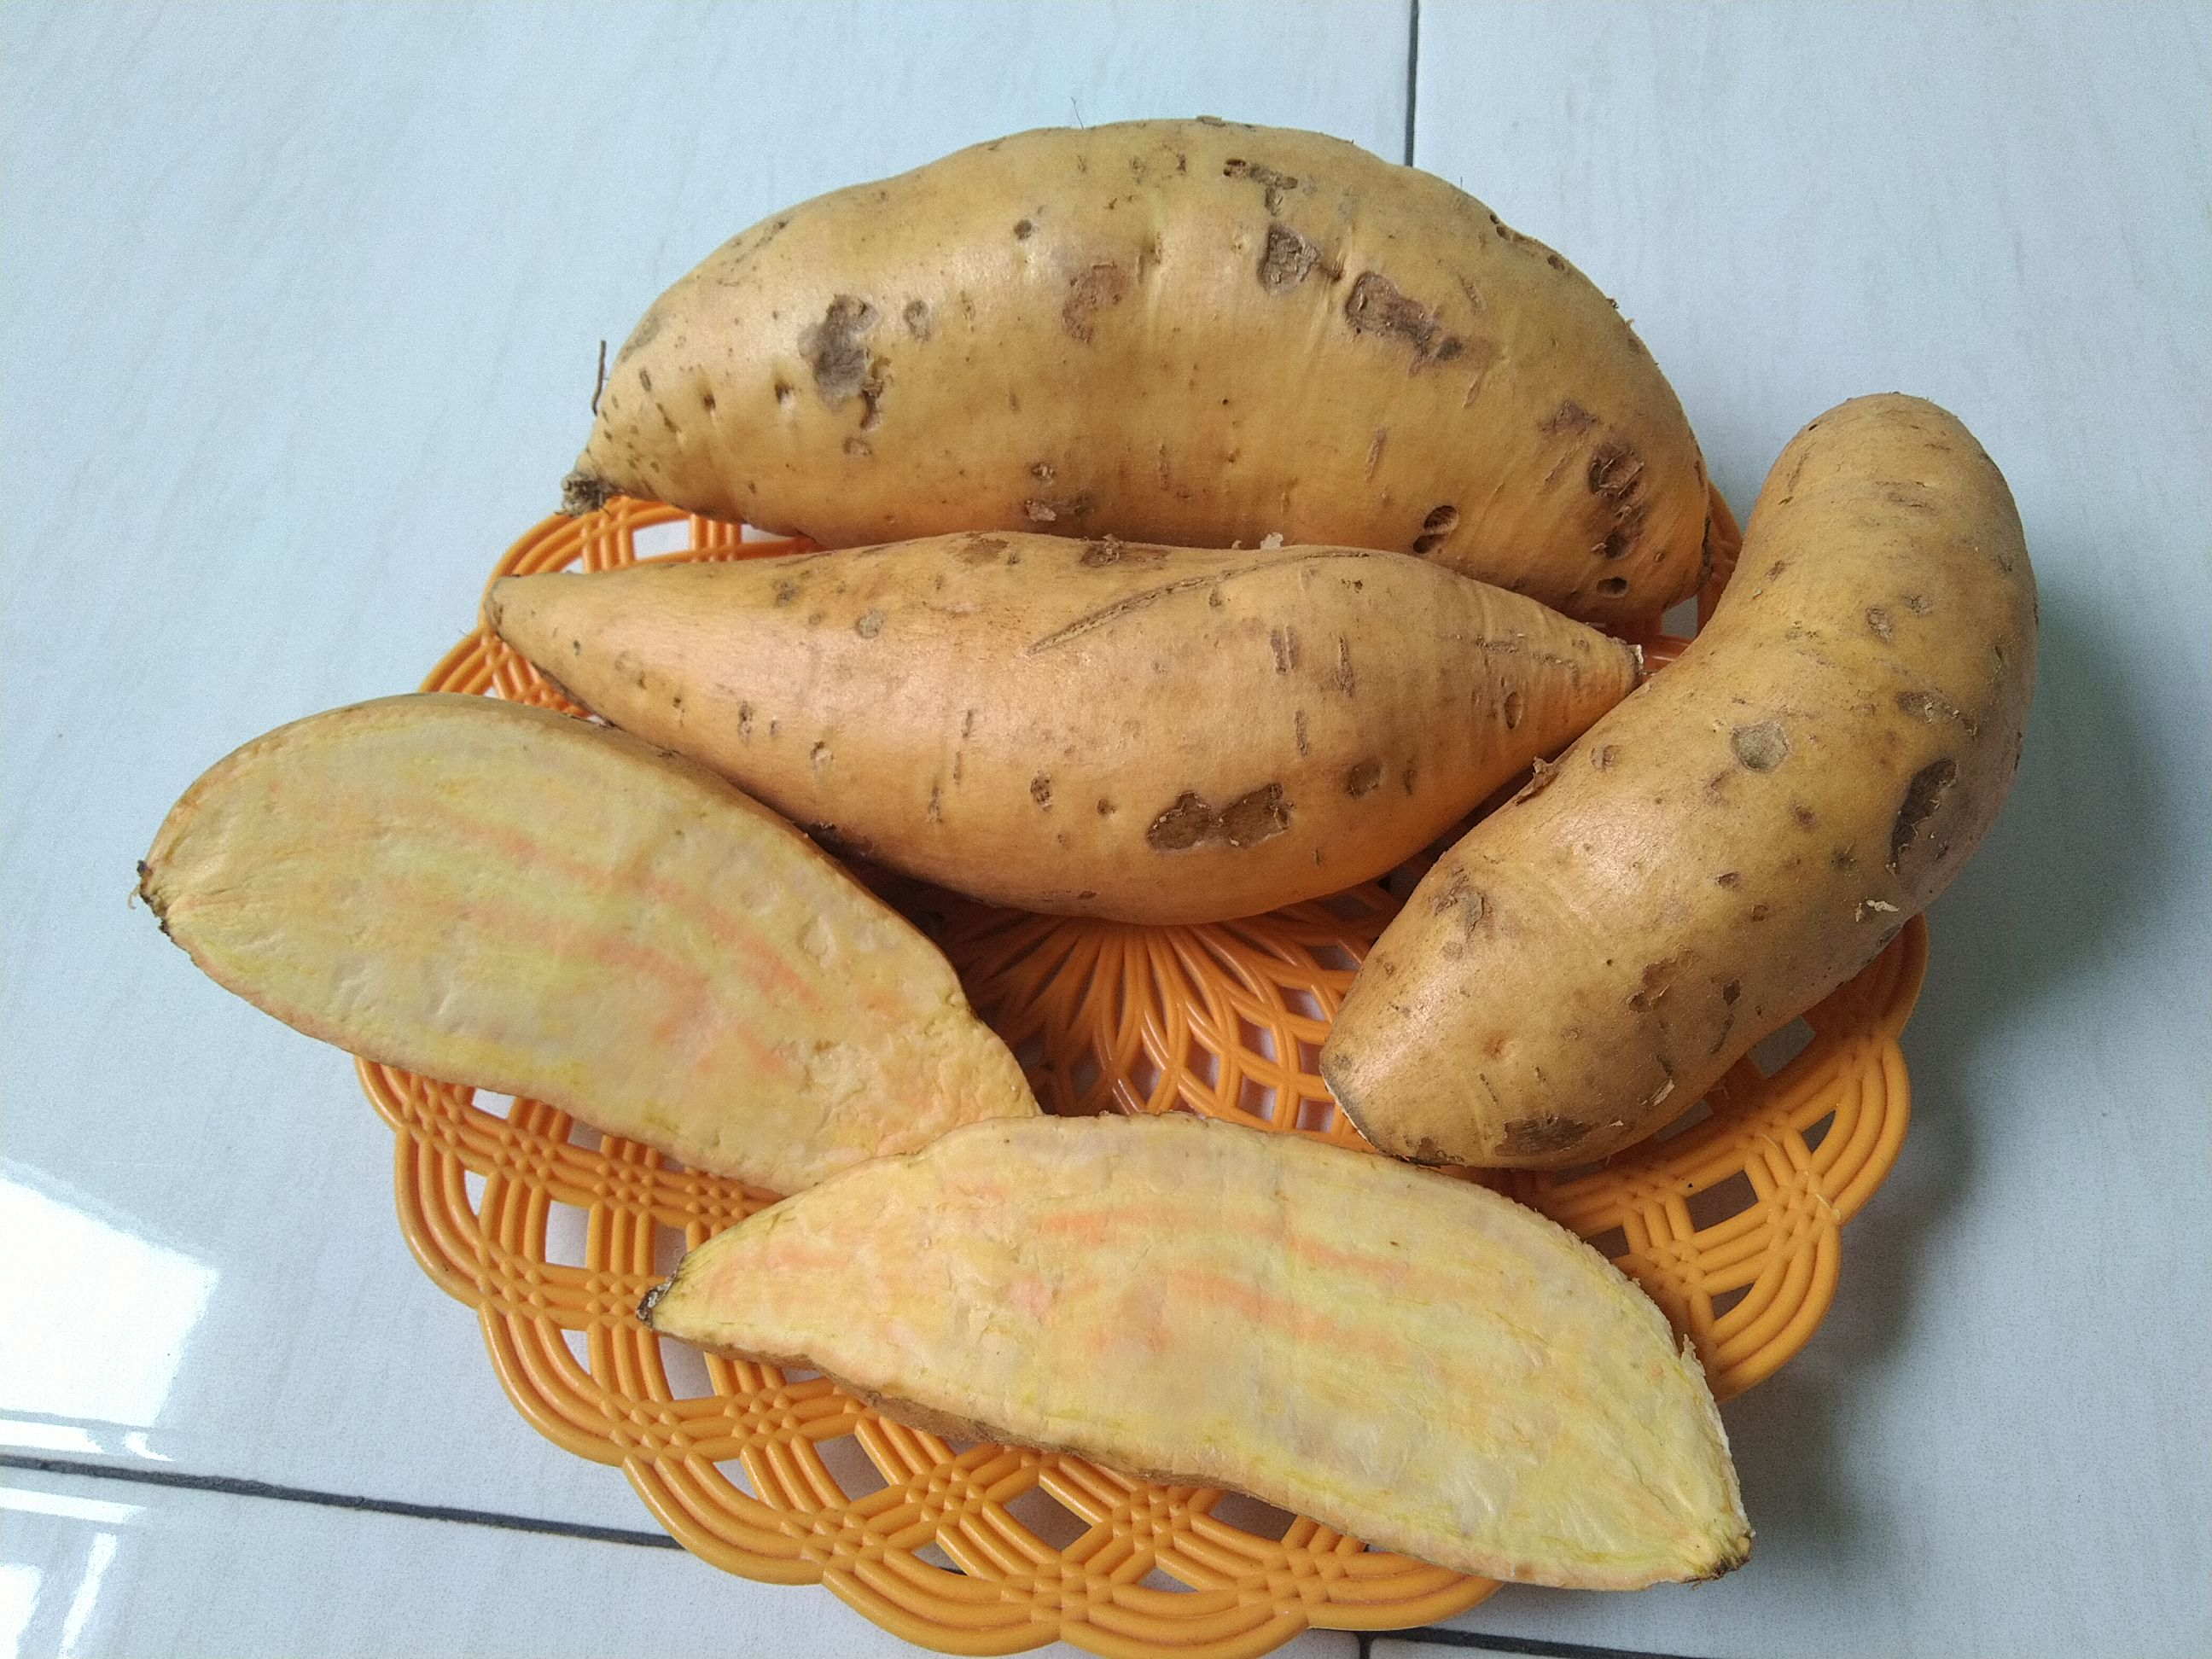ubi cilembu: (543, 106, 1761, 638), (1324, 378, 2137, 1150), (653, 1108, 1782, 1605), (122, 685, 1052, 1218), (477, 523, 1707, 925)
